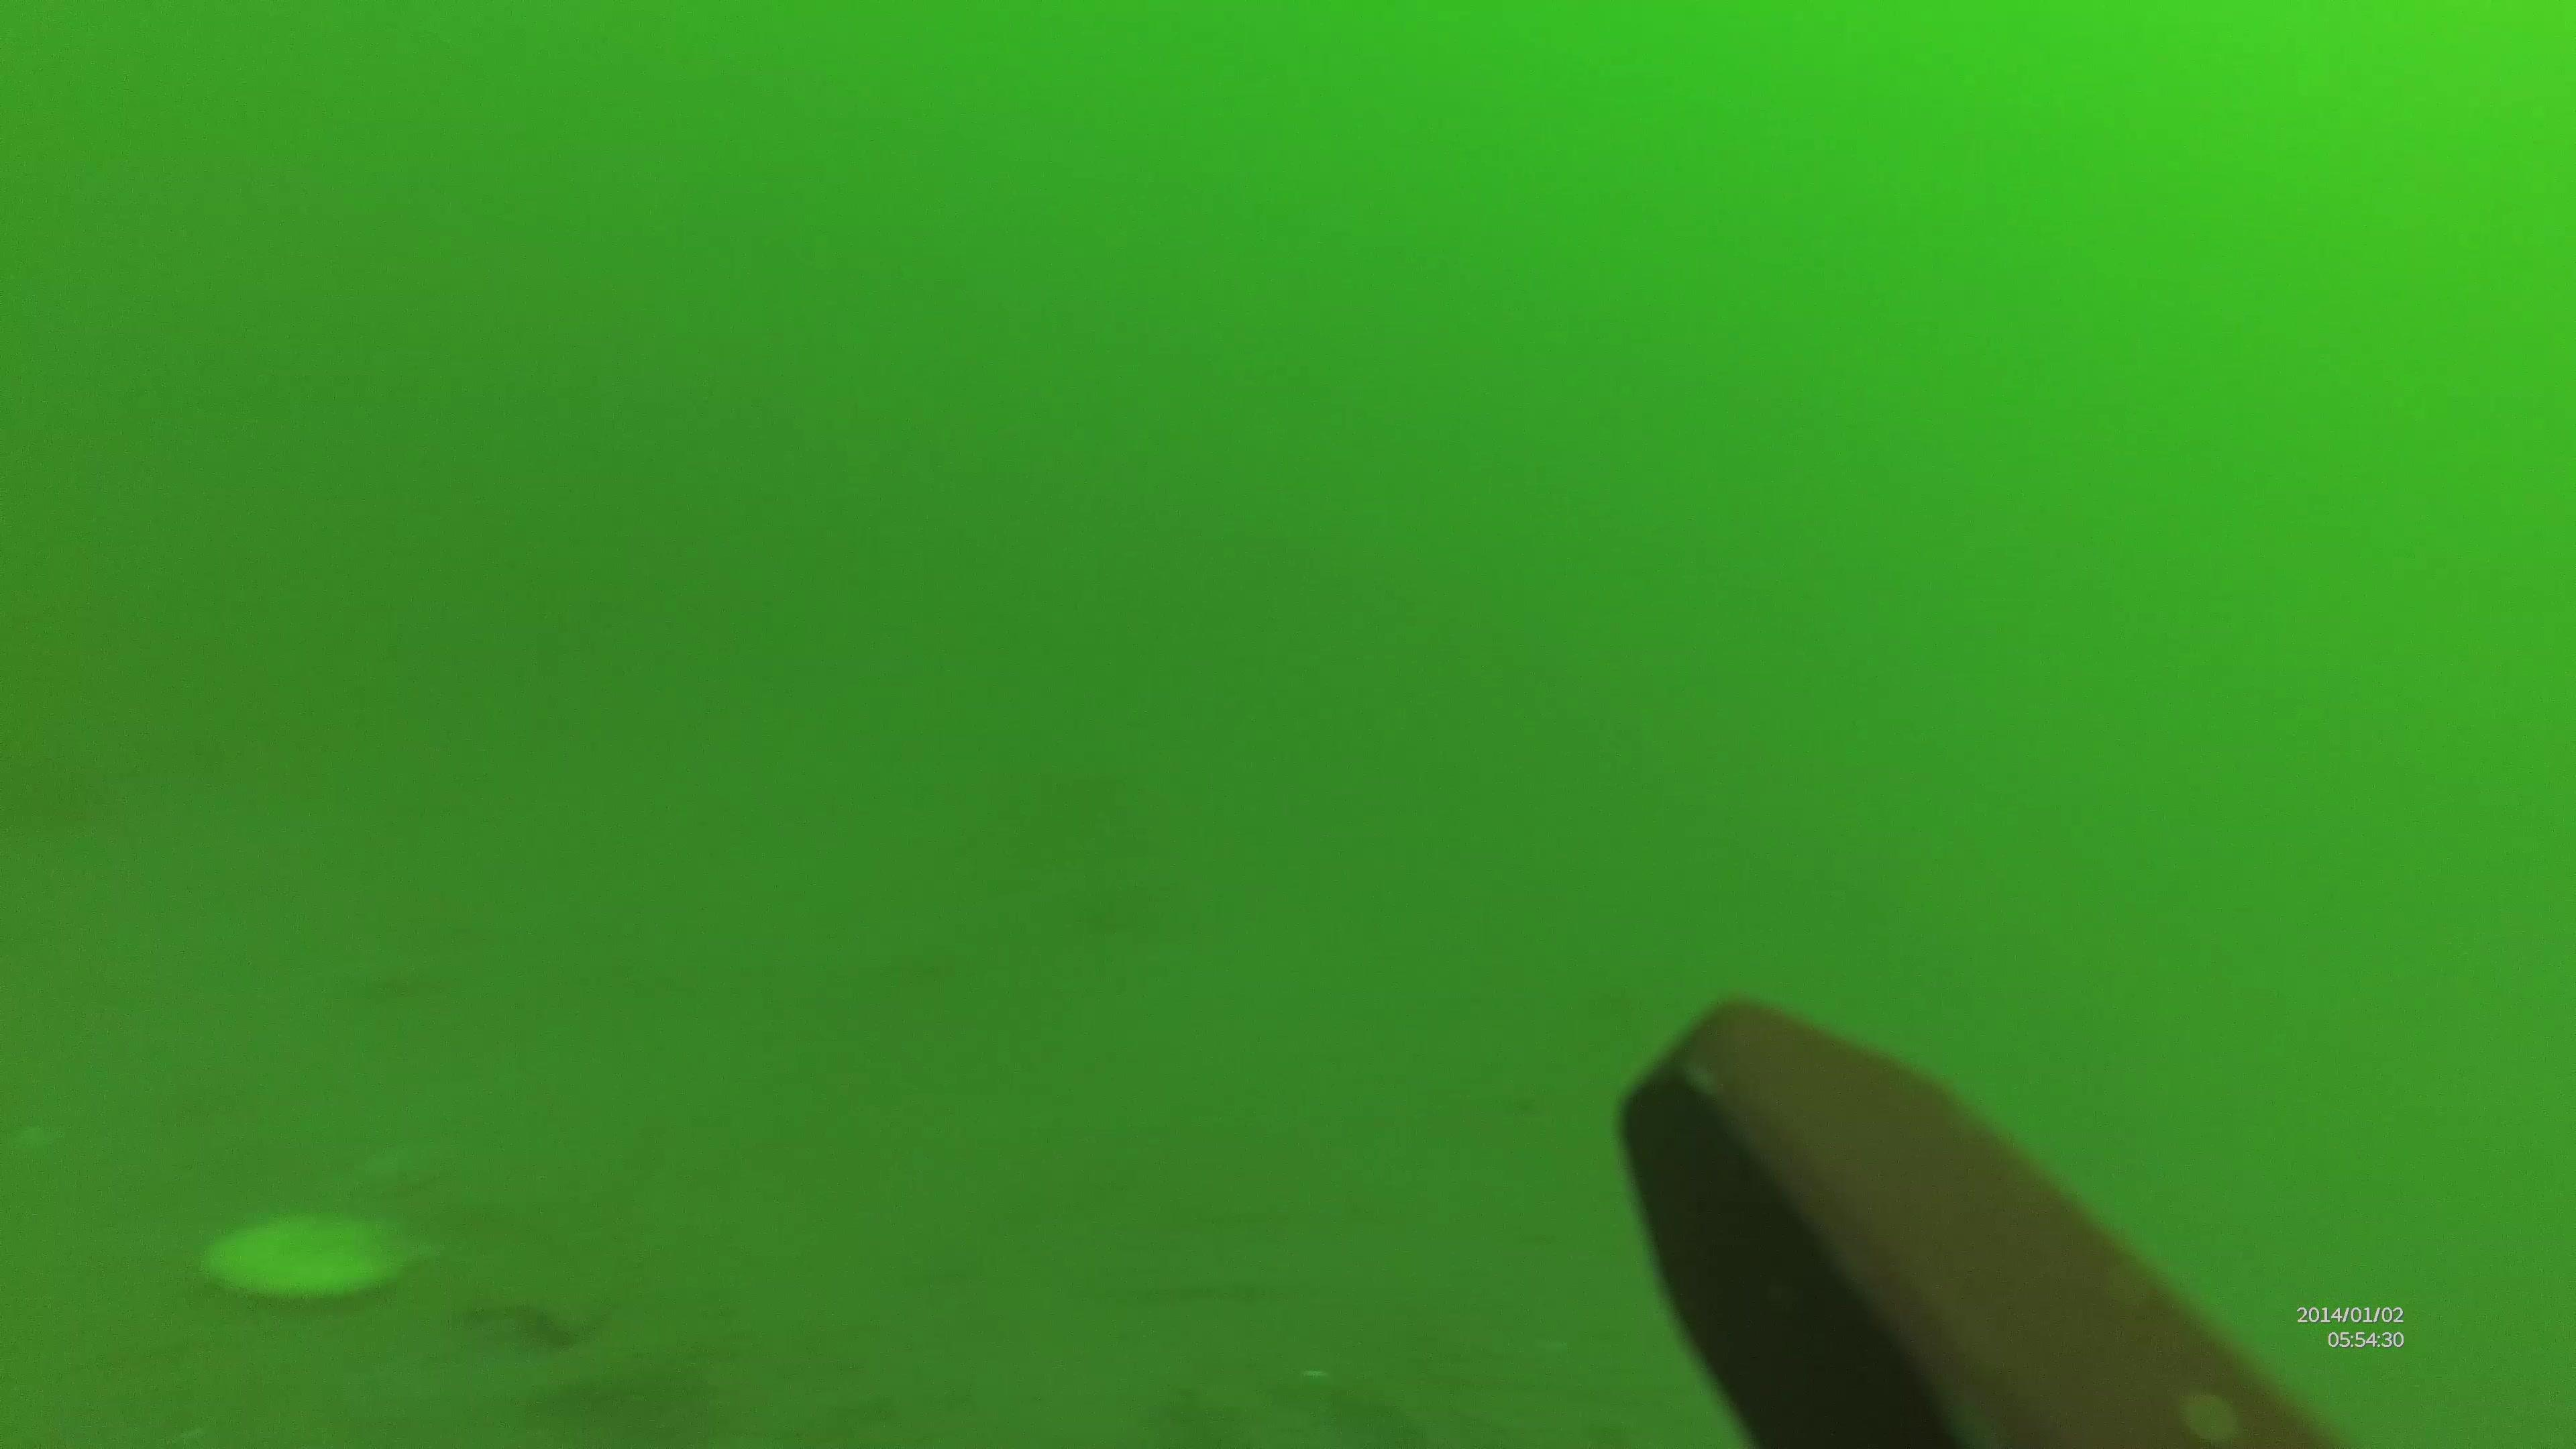scallop: (189, 1198, 441, 1313)
